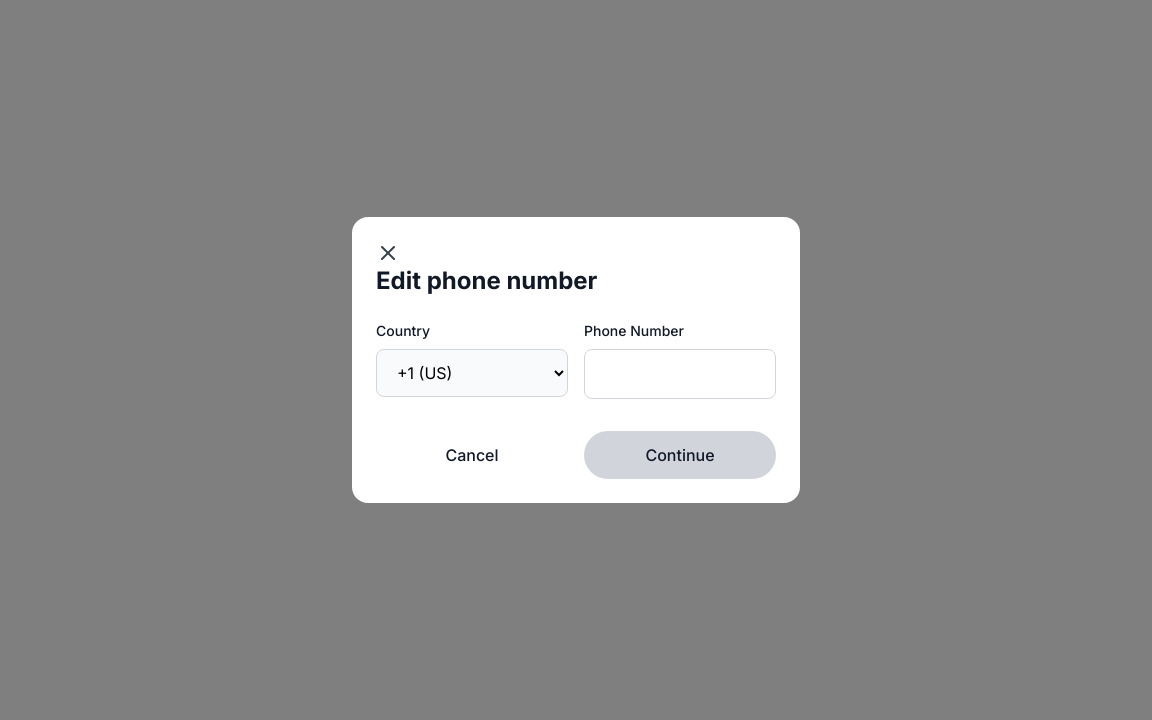
Test: EditPhoneModal › should show error when phone number is not 10 digits on Continue
Step 1. Type "12345" into the field labelled "Phone Number" → (680, 374), box top-left (584, 349), bottom-right (776, 399)
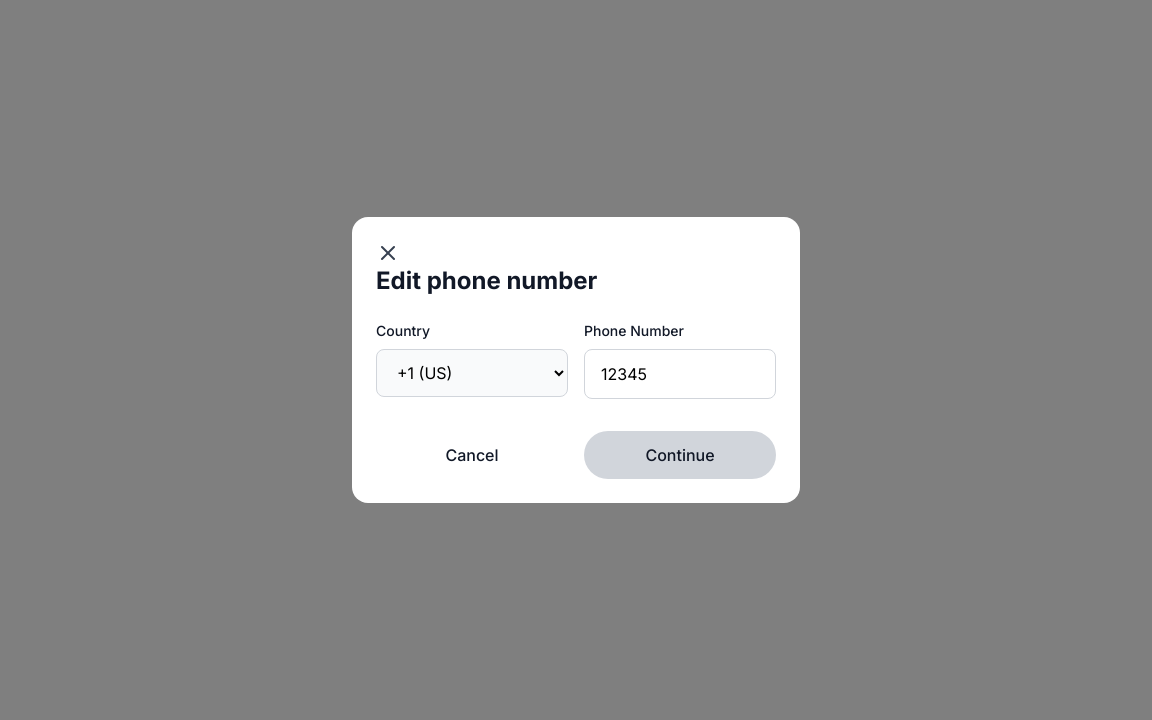
Step 2. Click the button "Continue" → click(680, 455), box top-left (584, 431), bottom-right (776, 479)
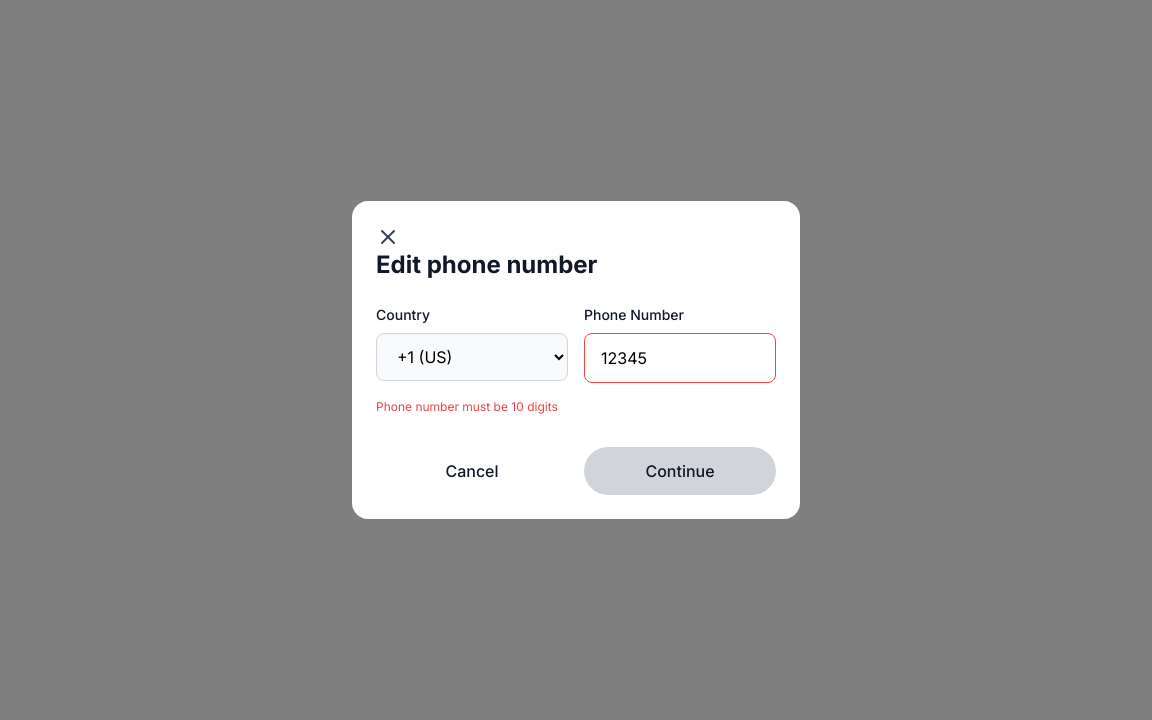
Result: the text "Phone number must be 10 digits" is shown at top-left (376, 399), bottom-right (558, 414)
